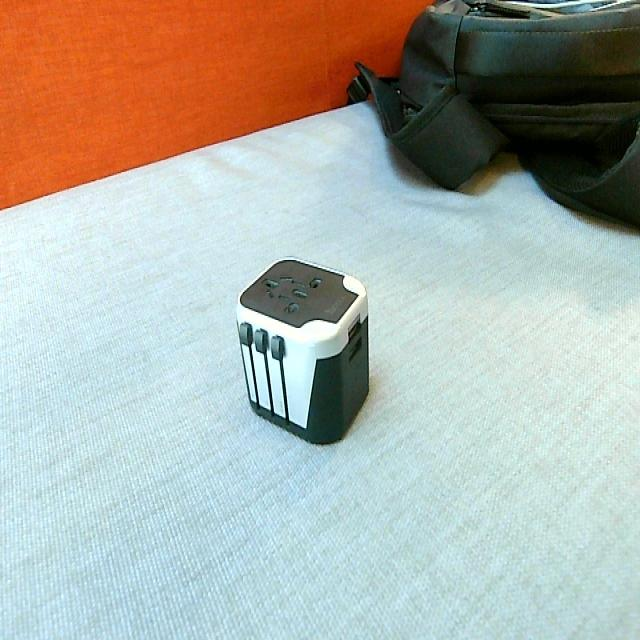adapter: (234, 256, 370, 444)
